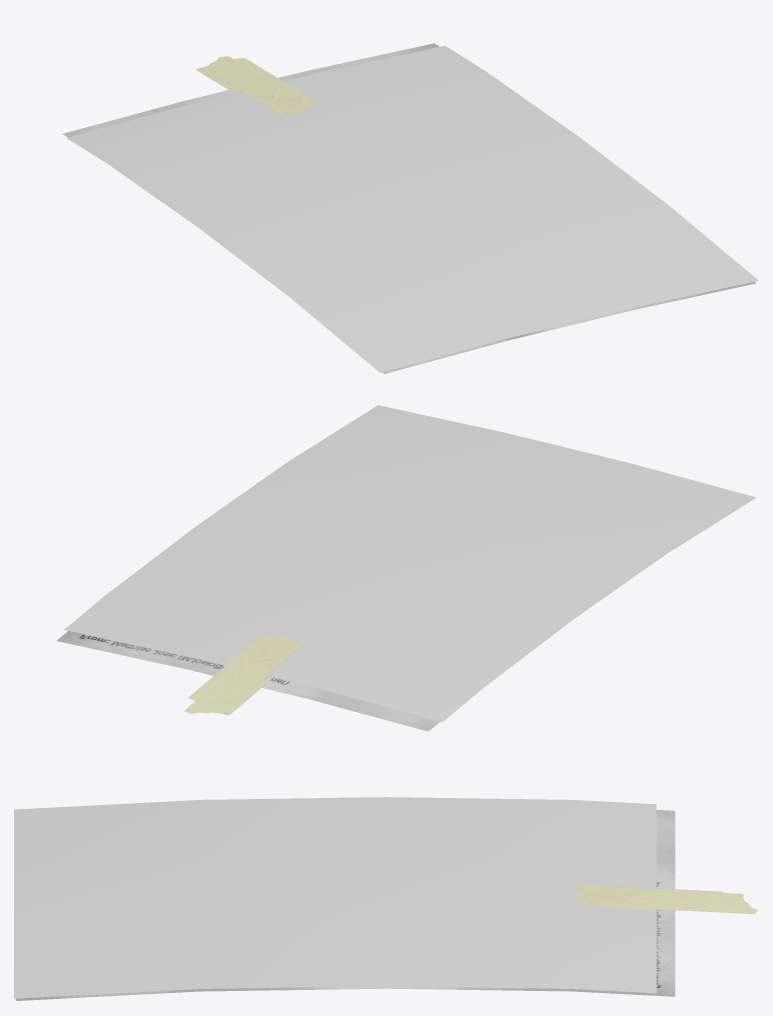
The model's file is 02_01_comet_article.DAE.
The picture shows the model from 3 angles, top to bottom: view 1: azimuth 30°, elevation 25°; view 2: azimuth 150°, elevation 25°; view 3: azimuth 270°, elevation 25°; orthographic projection. The views are drawn at different scales.
Visible parts, largest first — view 1: cometarticle; view 2: cometarticle; view 3: cometarticle.
Part boxes in pixels (x1,y1,x2,y2): cometarticle: [62, 43, 758, 373]; cometarticle: [56, 405, 756, 731]; cometarticle: [14, 797, 757, 1000].
Bounding box in the file's own units: 0.3928 × 0.0185 × 0.6503.
